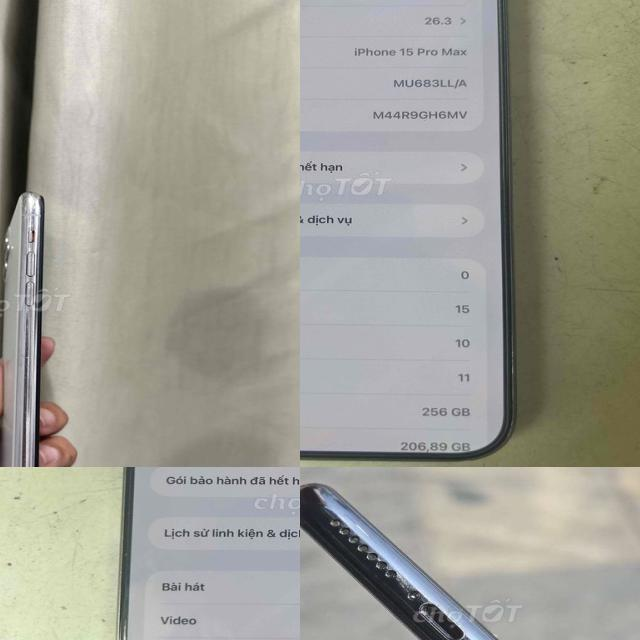gen_11: (300, 483, 640, 640), (0, 180, 70, 467)
gen_15: (300, 0, 546, 467), (107, 467, 300, 640)
scratch: (23, 238, 41, 354), (20, 391, 42, 463), (19, 186, 48, 238), (370, 563, 418, 591), (504, 345, 522, 377), (500, 415, 520, 441)
